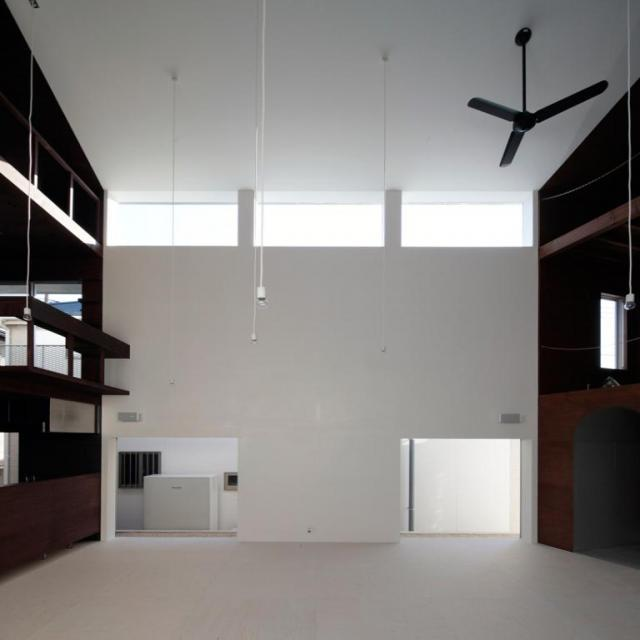fan_off: (467, 30, 608, 173)
